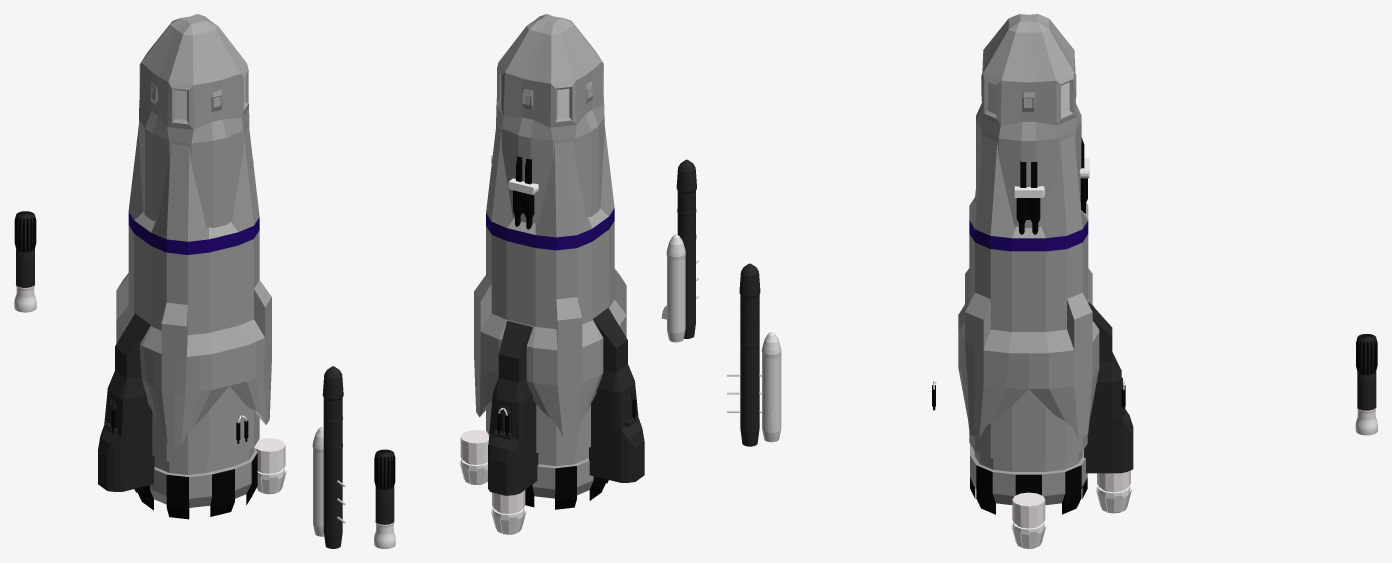
File: SavitirII_gray.glb
3 renders of one model, left to right at view 1: azimuth 30°, elevation 25°; view 2: azimuth 150°, elevation 25°; view 3: azimuth 270°, elevation 25°, orthographic. The views are drawn at different scales.
Visible parts, largest first — view 1: Body, ThrusterPipe, Cylinder, Cylinder.002, Cylinder.004; view 2: Body, ThrusterPipe, ThrusterPipe2, Cylinder, Cylinder.002, Cylinder.004, CockpitPipes; view 3: Body, ThrusterPipe2, Cylinder, Cylinder.002, Cylinder.004, ThrusterPipe, CockpitPipes2.
Part boxes in pixels (<box>): Body: <box>116,14,271,519</box>; ThrusterPipe: <box>98,313,286,494</box>; Cylinder: <box>322,366,343,548</box>; Cylinder.002: <box>14,211,36,312</box>; Cylinder.004: <box>312,426,324,536</box>; Body: <box>474,14,626,509</box>; ThrusterPipe: <box>459,307,644,484</box>; ThrusterPipe2: <box>488,320,538,534</box>; Cylinder: <box>676,159,696,338</box>; Cylinder.002: <box>374,449,395,548</box>; Cylinder.004: <box>661,234,685,342</box>; CockpitPipes: <box>508,156,538,229</box>; Body: <box>958,14,1099,514</box>; ThrusterPipe2: <box>1084,301,1133,513</box>; Cylinder: <box>739,263,760,446</box>; Cylinder.002: <box>1355,334,1377,435</box>; Cylinder.004: <box>761,332,781,442</box>; ThrusterPipe: <box>1011,492,1046,548</box>; CockpitPipes2: <box>1013,161,1044,234</box>.
Bounding box in the file's own units: 22.09 × 56.79 × 68.31.
